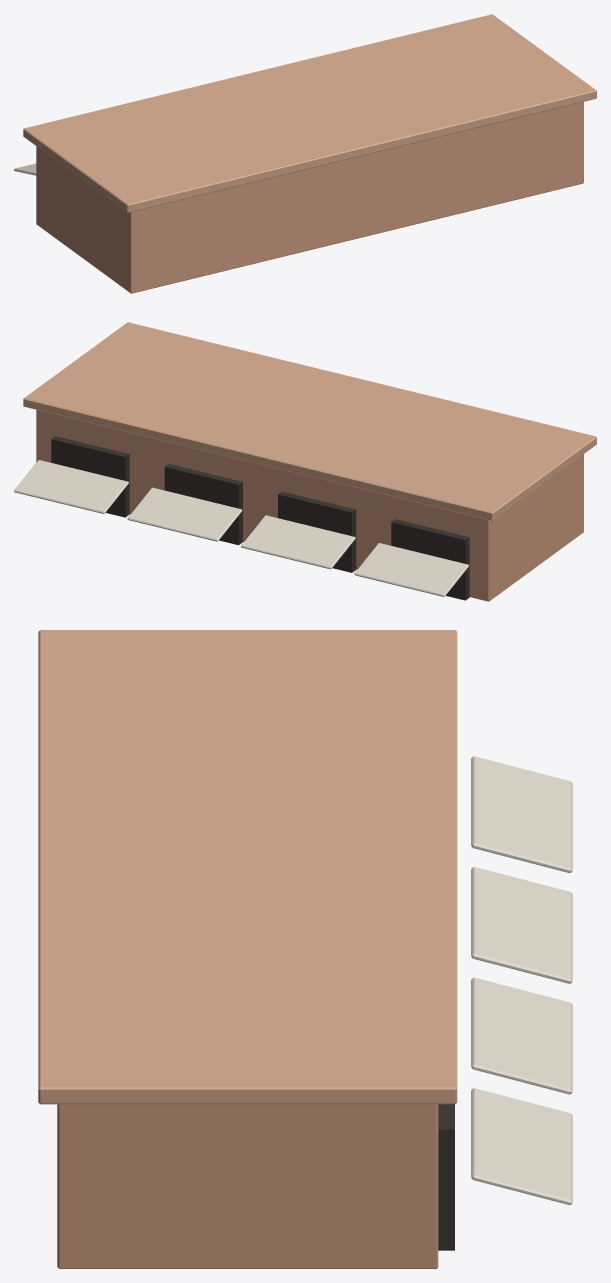
Rendered from shop_row.glb.
3 renders of one model, top to bottom at view 1: azimuth 30°, elevation 25°; view 2: azimuth 150°, elevation 25°; view 3: azimuth 270°, elevation 25°, orthographic. The views are drawn at different scales.
Visible parts, largest first — view 1: roof, body; view 2: roof, body, awning_2, awning_1, awning_3, awning_0, shop_1, shop_0, shop_3, shop_2; view 3: roof, body, awning_0, awning_3, awning_2, awning_1, shop_3.
Part boxes in pixels (box(x1,y1,x2,y2)): roof: box(23, 14, 596, 212); body: box(36, 102, 583, 293); roof: box(23, 322, 596, 520); body: box(36, 410, 583, 601); awning_2: box(127, 487, 242, 541); awning_1: box(240, 515, 355, 569); awning_3: box(14, 460, 128, 513); awning_0: box(354, 543, 468, 596); shop_1: box(278, 491, 356, 572); shop_0: box(391, 519, 469, 600); shop_3: box(51, 436, 129, 517); shop_2: box(164, 464, 242, 545); roof: box(38, 630, 457, 1104); body: box(57, 1104, 438, 1268); awning_0: box(471, 756, 572, 873); awning_3: box(471, 1088, 572, 1205); awning_2: box(471, 977, 572, 1094); awning_1: box(471, 867, 572, 983); shop_3: box(438, 1104, 454, 1250).
Size of the model in its own units: 22.8 by 4.4 by 11.22.
